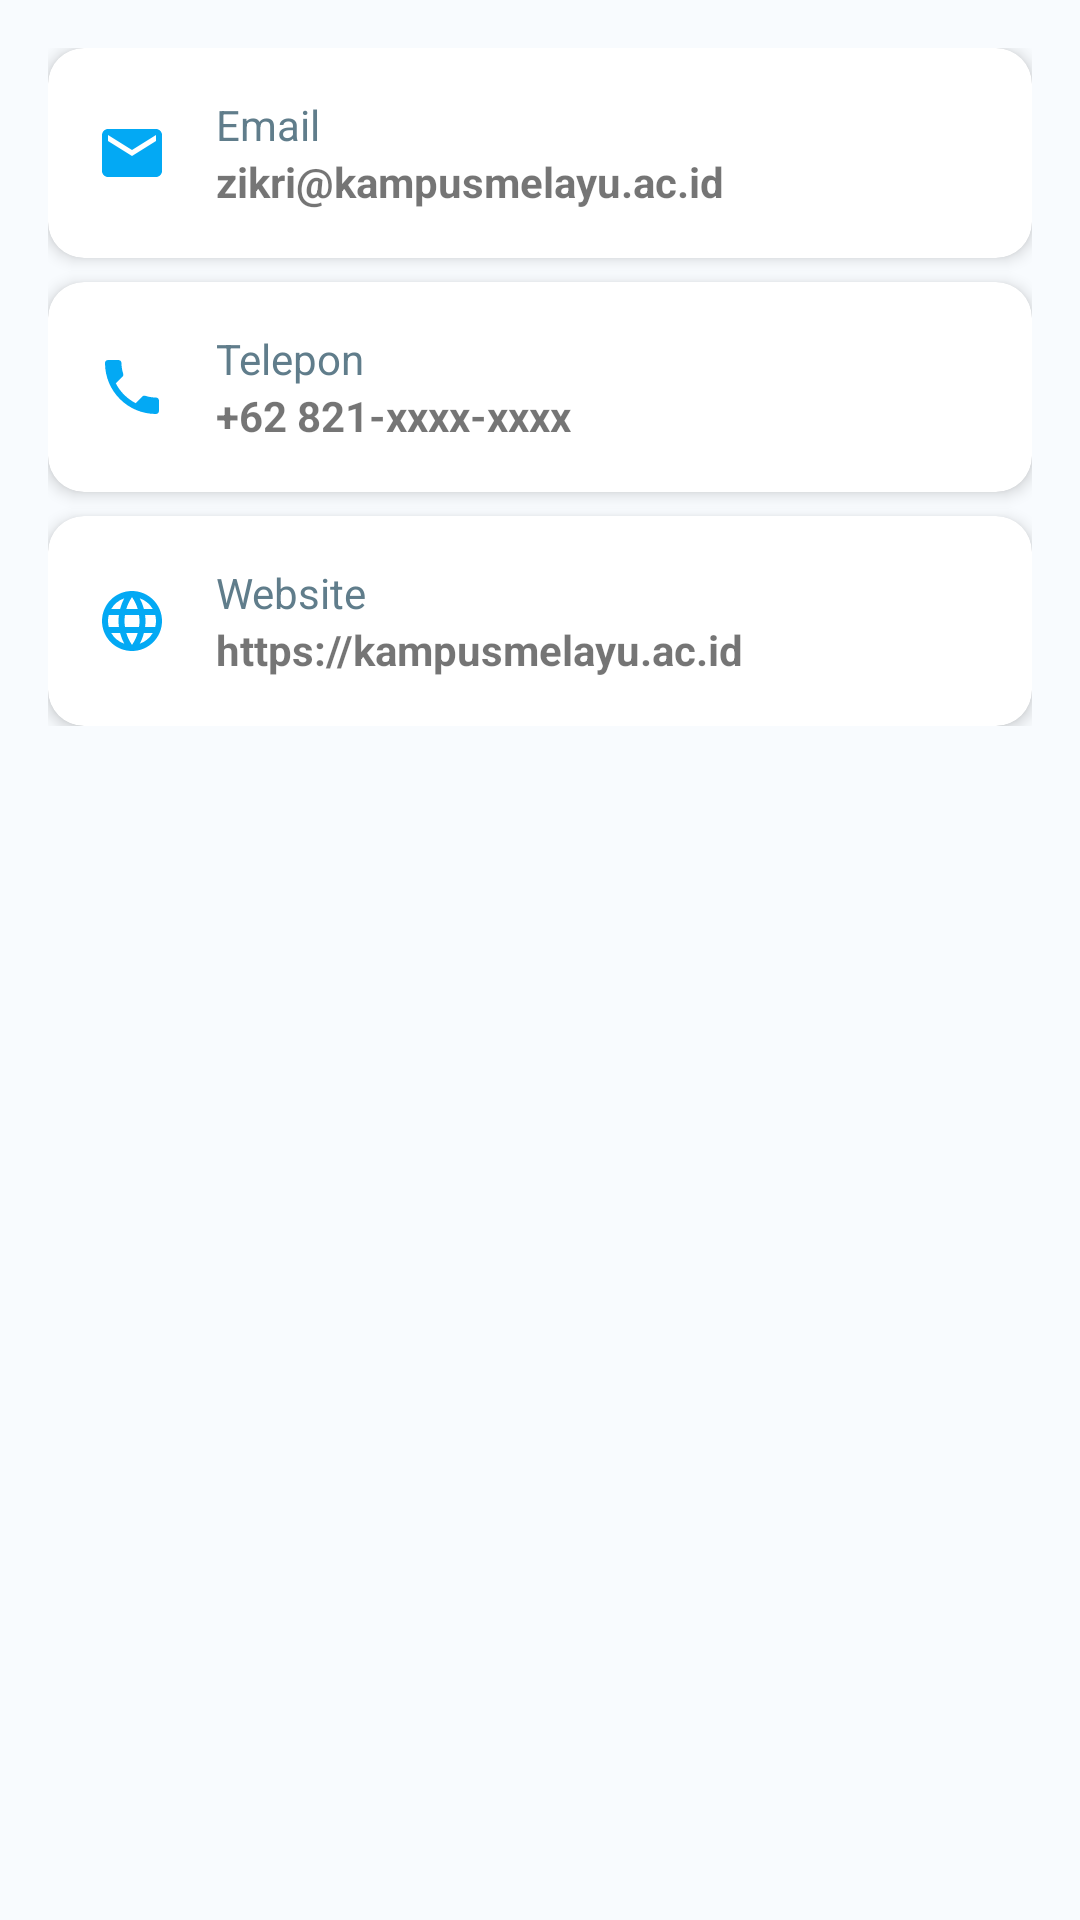

Icons on this 1080×1920 Android screen, each with the point to tap as [x,y]:
phone: [132,387]
web: [132,621]
